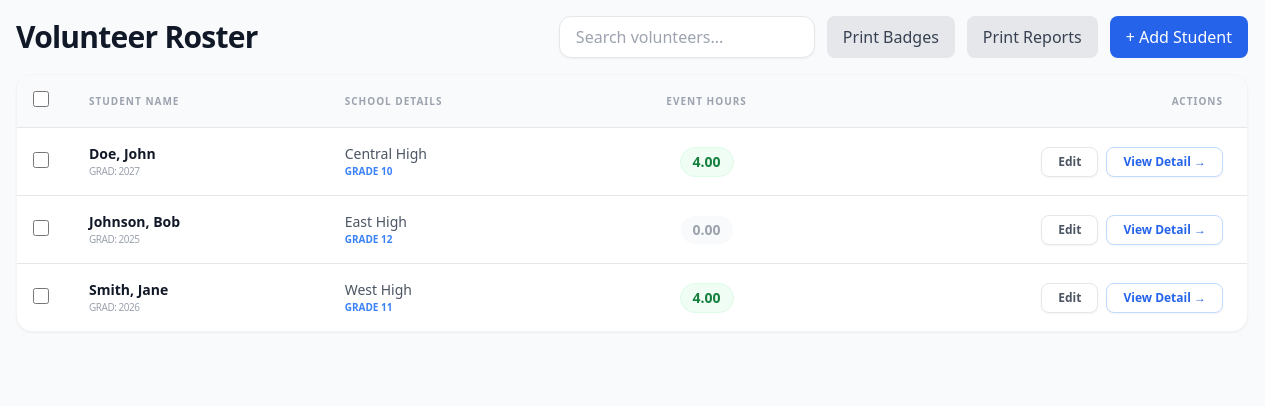
Scenario: StudentsPage › bulk selection › should select all filtered students when Select All Visible is clicked
Expected: the text "Doe, John" is shown, [89,144,156,163]
# Select one student first to make selection bar appear
What coordinates should you click on to do the following:
click the checkbox named "Select John Doe"
I would click on:
 (41, 160)
Its box is [33,152,49,168].
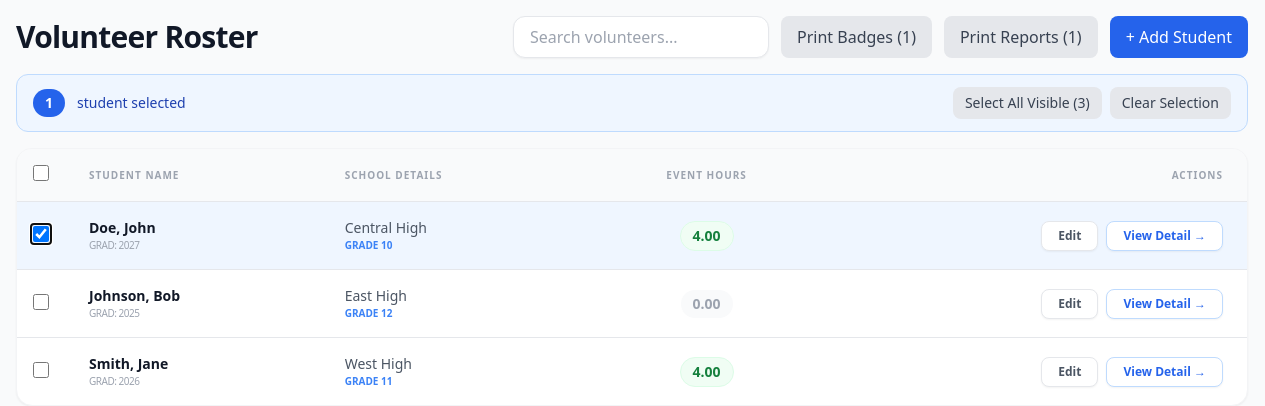
Expected: the button "Select All Visible (3)" is shown
What coordinates should you click on to do the following:
click the button "Select All Visible (3)"
I would click on:
 (1027, 103)
Its box is [953,87,1102,119].
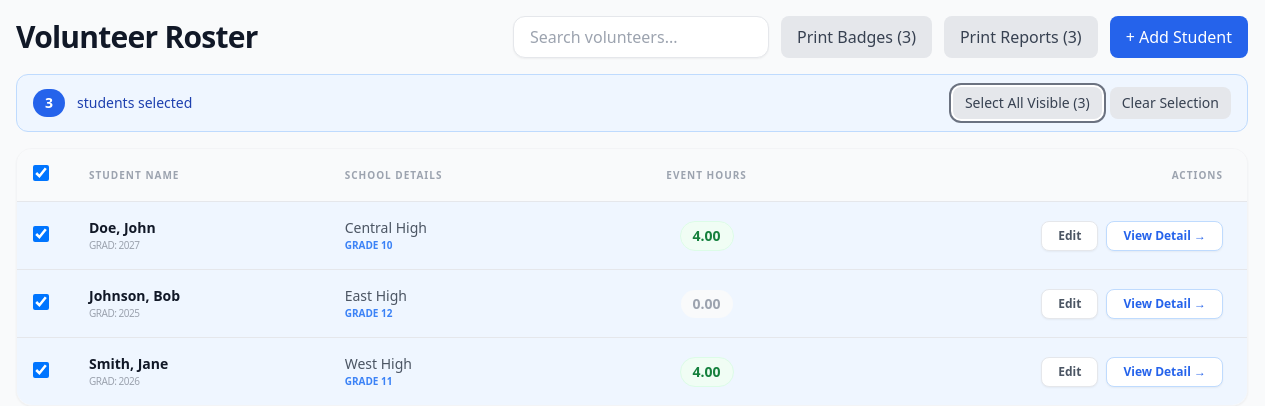
Expected: the checkbox named "Select John Doe" is checked, [33,226,49,242]
Expected: the checkbox named "Deselect all students" is checked, [33,165,49,181]
Expected: the checkbox named "Select Bob Johnson" is checked, [33,294,49,310]
